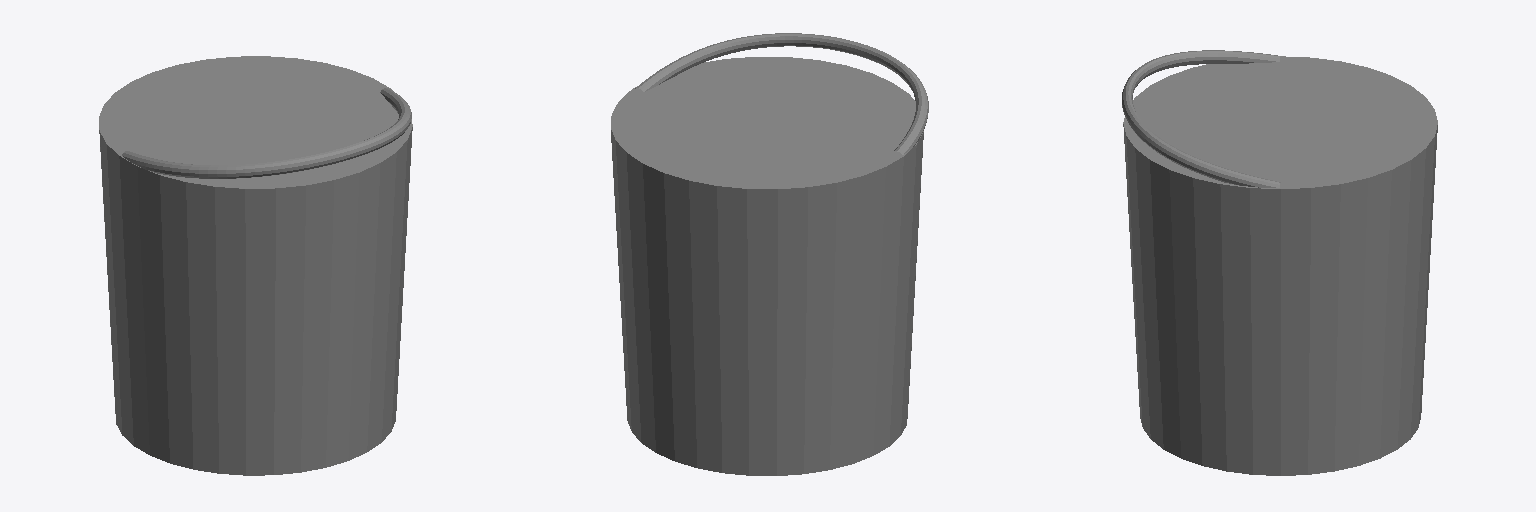
The model's file is emmer.obj.
3 views of the same model, side by side, from view 1: azimuth 30°, elevation 25°; view 2: azimuth 150°, elevation 25°; view 3: azimuth 270°, elevation 25° (orthographic).
Visible parts, largest first — view 1: Cylinder, NurbsPath; view 2: Cylinder, NurbsPath; view 3: Cylinder, NurbsPath.
Boxes of the visible parts, box(x1,y1,x2,y2) form: Cylinder: box(99, 56, 412, 475); NurbsPath: box(122, 88, 411, 178); Cylinder: box(611, 57, 923, 475); NurbsPath: box(635, 33, 928, 154); Cylinder: box(1123, 56, 1437, 475); NurbsPath: box(1122, 50, 1280, 187).
Size of the model in its own units: 2.24 by 2.52 by 2.25.